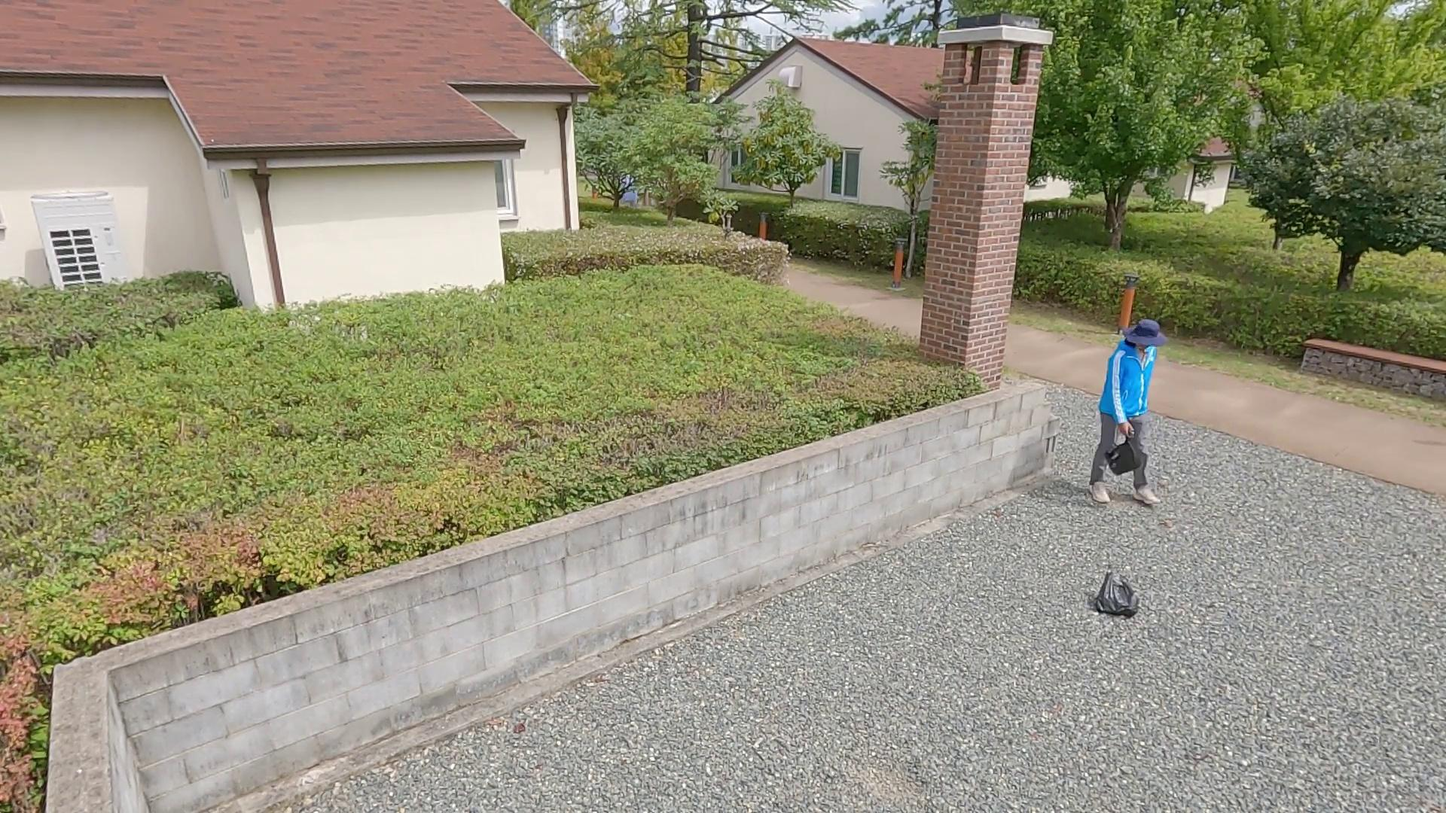person: (1086, 316, 1175, 515)
trash: (1086, 557, 1145, 624), (1106, 426, 1147, 481)
